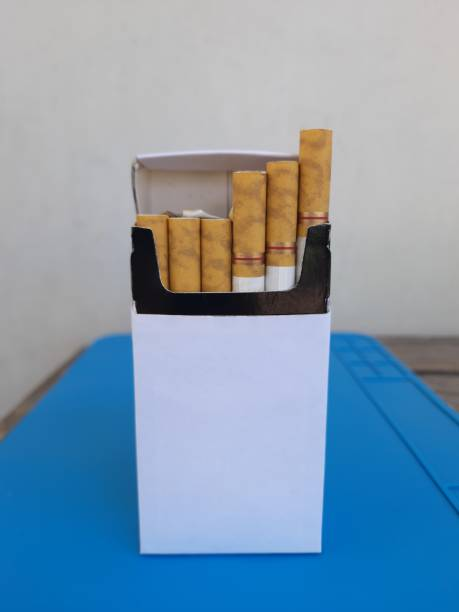cigarette: (128, 149, 332, 558), (295, 128, 334, 283), (263, 159, 297, 293), (231, 169, 267, 293), (168, 215, 201, 292), (135, 212, 168, 289), (199, 218, 232, 293)
